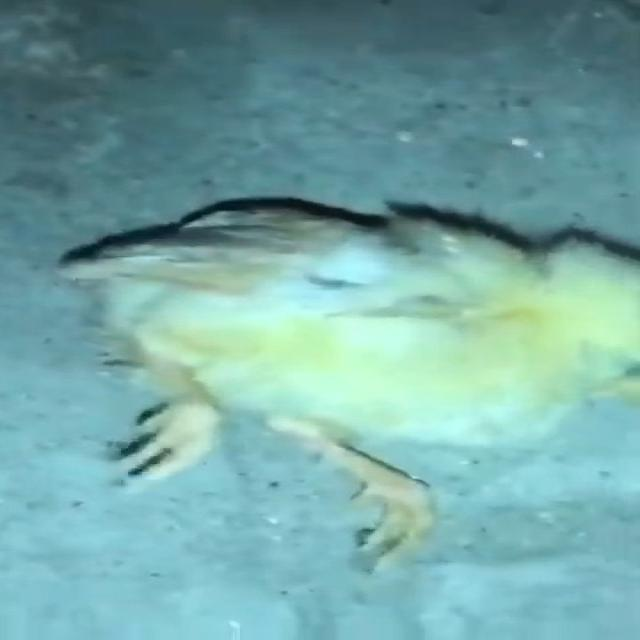abnormal chicken: (64, 162, 640, 560)
